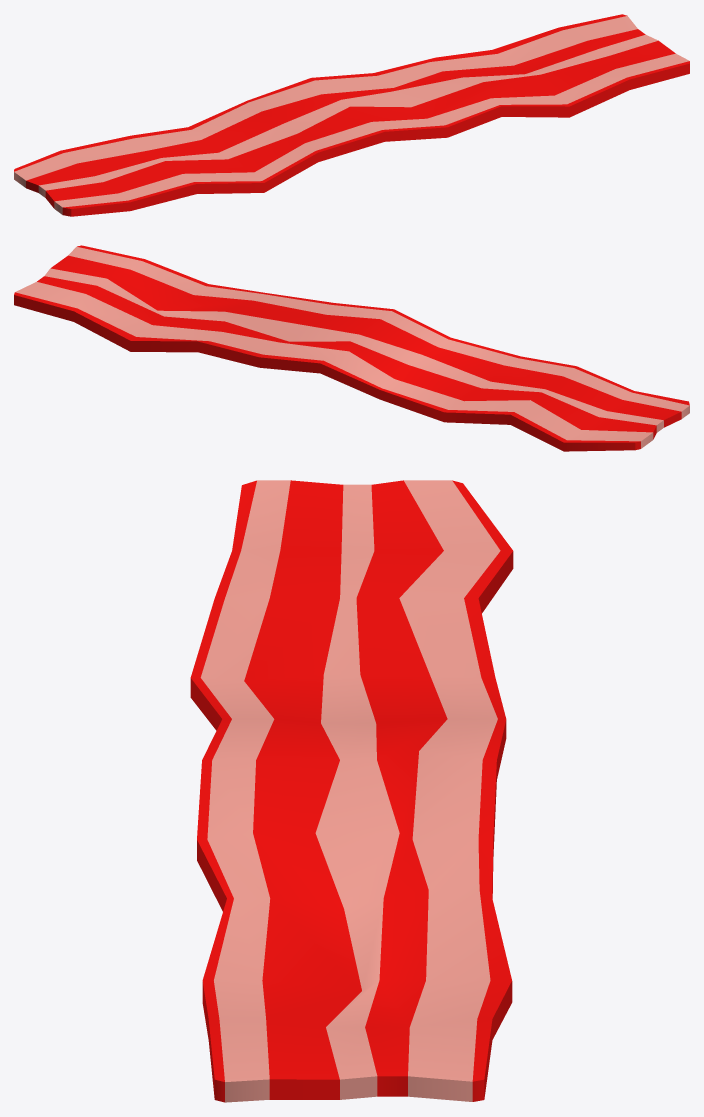
The model's file is Bacon.FBX.
The picture shows the model from 3 angles, top to bottom: view 1: azimuth 30°, elevation 25°; view 2: azimuth 150°, elevation 25°; view 3: azimuth 270°, elevation 25°; orthographic projection. The views are drawn at different scales.
Parts seen in each view (by area): view 1: Bacon; view 2: Bacon; view 3: Bacon.
Part boxes in pixels (<box>): Bacon: <box>14,14,689,216</box>; Bacon: <box>14,245,689,451</box>; Bacon: <box>190,480,513,1102</box>.
Bounding box in the file's own units: 35.58 × 1.7 × 8.03.
